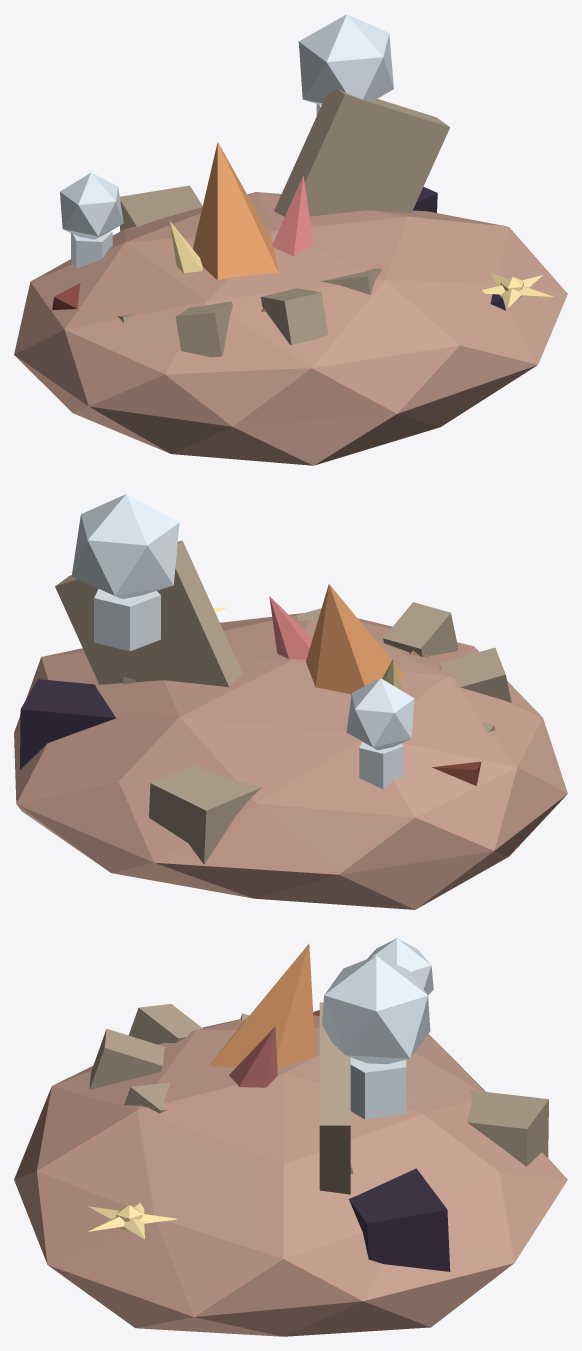
File: volcanic-ruin.glb
The picture shows the model from 3 angles, top to bottom: view 1: azimuth 30°, elevation 25°; view 2: azimuth 150°, elevation 25°; view 3: azimuth 270°, elevation 25°; orthographic projection. The views are drawn at different scales.
Visible parts, largest first — view 1: volcanic-ruin; view 2: volcanic-ruin; view 3: volcanic-ruin.
Boxes of the visible parts, box(x1,y1,x2,y2) form: volcanic-ruin: box(14, 14, 567, 465); volcanic-ruin: box(14, 494, 567, 909); volcanic-ruin: box(14, 938, 567, 1336).
Bounding box in the file's own units: 1.2 × 0.7194 × 1.08.
